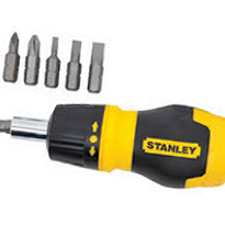Screwdriver: (2, 97, 225, 198)
